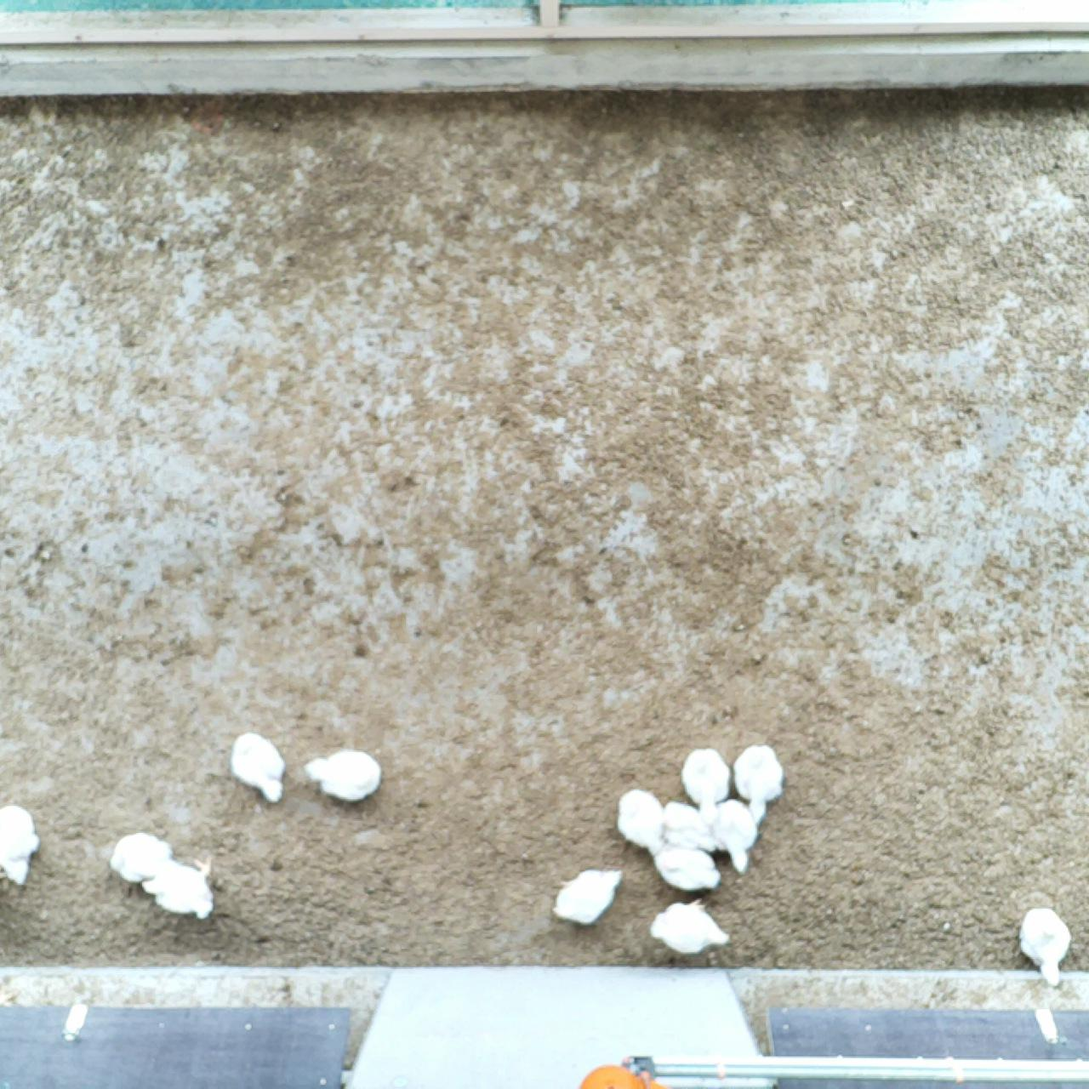chicken: (141, 850, 221, 922), (1013, 902, 1074, 989), (648, 894, 732, 956), (300, 745, 384, 804), (731, 739, 787, 827), (550, 864, 627, 927), (226, 729, 289, 806), (680, 744, 732, 826), (107, 825, 176, 886), (648, 840, 725, 894), (715, 794, 763, 877), (615, 783, 667, 857), (0, 804, 43, 889), (660, 795, 719, 855)
